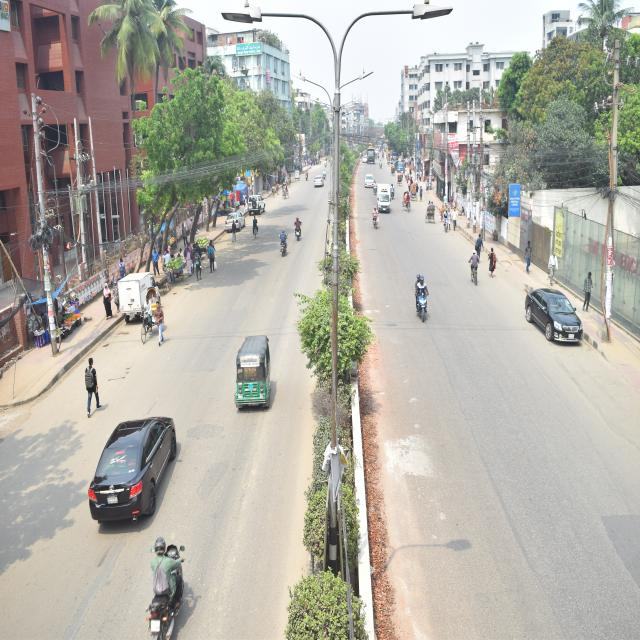car: (70, 384, 196, 543), (504, 267, 596, 368), (213, 200, 248, 239), (247, 193, 270, 222), (313, 173, 328, 196), (363, 168, 376, 190)
motorbike: (134, 527, 244, 640), (396, 256, 457, 338), (290, 216, 314, 276), (269, 214, 295, 255), (247, 214, 266, 252), (370, 201, 387, 240), (389, 174, 397, 208), (300, 170, 314, 186), (372, 175, 380, 200)
pickup-van: (100, 260, 190, 322), (376, 179, 394, 216)
truck: (366, 145, 378, 169)
